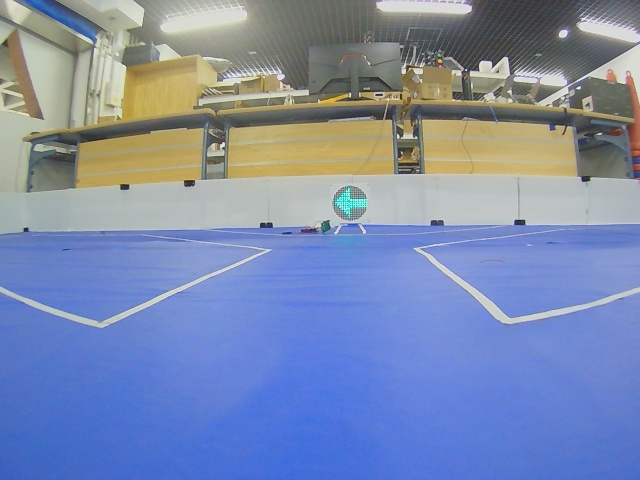left_green: (332, 186, 368, 221)
